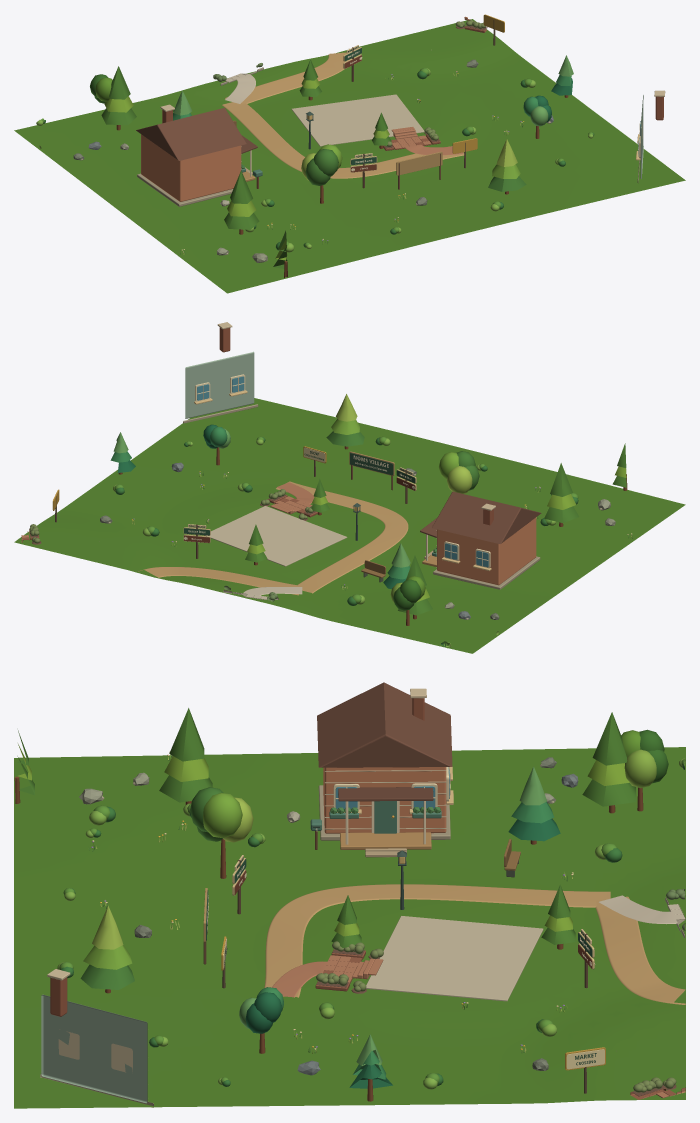
The model's file is before.glb.
3 renders of one model, top to bottom at view 1: azimuth 30°, elevation 25°; view 2: azimuth 150°, elevation 25°; view 3: azimuth 270°, elevation 25°, orthographic. The views are drawn at different scales.
Parts seen in each view (by area): view 1: Landscape detail, Colored cottage walls, kitchen threshold, Pitched cottage roof, Ground-level walking path, Ground-level walking path.001, Rounded leafy canopy.006, Welcome board frame, Road sign ochre rim, Cottage foundation, Path-to-entrance connection.001, Folded evergreen canopy.005 (+4 smaller); view 2: Landscape detail, kitchen threshold, Colored cottage walls, Pitched cottage roof, Colored cottage walls.001, Ground-level walking path, Ground-level walking path.001, Cottage foundation, Blue window pane, Rounded leafy canopy.003, Rounded leafy canopy.008, Welcome board green face; view 3: Landscape detail, kitchen threshold, Pitched cottage roof, Colored cottage walls.001, Ground-level walking path, Colored cottage walls, Ground-level walking path.001, Front porch deck, Rounded leafy canopy.007, Folded evergreen canopy.003, Cream window casing, Porch awning (+26 smaller).
Boxes of the visible parts, box(x1,y1,x2,y2) form: Landscape detail: box(14, 19, 685, 293); Colored cottage walls: box(141, 134, 241, 201); kitchen threshold: box(291, 94, 424, 146); Pitched cottage roof: box(136, 107, 246, 160); Ground-level walking path: box(222, 102, 464, 178); Ground-level walking path.001: box(225, 48, 351, 105); Rounded leafy canopy.006: box(305, 149, 338, 185); Welcome board frame: box(396, 151, 442, 175); Road sign ochre rim: box(452, 14, 504, 153); Cottage foundation: box(137, 160, 639, 206); Path-to-entrance connection.001: box(225, 74, 255, 103); Folded evergreen canopy.005: box(173, 55, 573, 115); Landscape detail: box(14, 398, 685, 653); kitchen threshold: box(204, 506, 347, 566); Colored cottage walls: box(437, 517, 536, 585); Pitched cottage roof: box(432, 491, 541, 543); Colored cottage walls.001: box(185, 351, 254, 418); Ground-level walking path: box(276, 481, 408, 593); Ground-level walking path.001: box(138, 567, 304, 595); Cottage foundation: box(183, 404, 540, 589); Blue window pane: box(197, 376, 488, 567); Rounded leafy canopy.003: box(393, 579, 421, 610); Rounded leafy canopy.008: box(447, 466, 472, 493); Welcome board green face: box(350, 453, 393, 475); Landscape detail: box(14, 747, 685, 1108); kitchen threshold: box(366, 916, 543, 1001); Pitched cottage roof: box(317, 682, 452, 767); Colored cottage walls.001: box(41, 994, 147, 1103); Ground-level walking path: box(264, 884, 610, 997); Colored cottage walls: box(323, 767, 446, 833); Ground-level walking path.001: box(595, 896, 685, 1004); Front porch deck: box(340, 832, 431, 849); Rounded leafy canopy.007: box(203, 792, 242, 838); Folded evergreen canopy.003: box(349, 818, 560, 1088); Cream window casing: box(58, 767, 448, 1072); Porch awning: box(338, 787, 433, 801).
Size of the model in its own units: 72 by 12.34 by 58.
